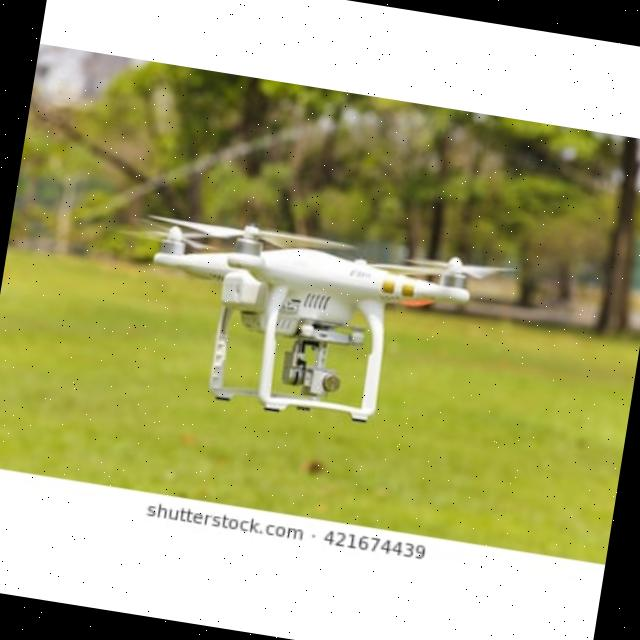Drones: (122, 206, 488, 442)
